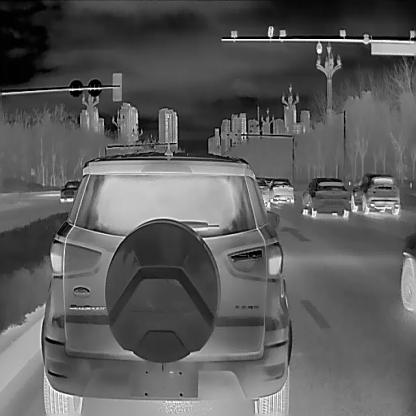car: (41, 152, 292, 415), (350, 172, 400, 217), (300, 176, 348, 217), (399, 233, 415, 312), (268, 177, 293, 203), (254, 176, 269, 206), (59, 180, 78, 200)
